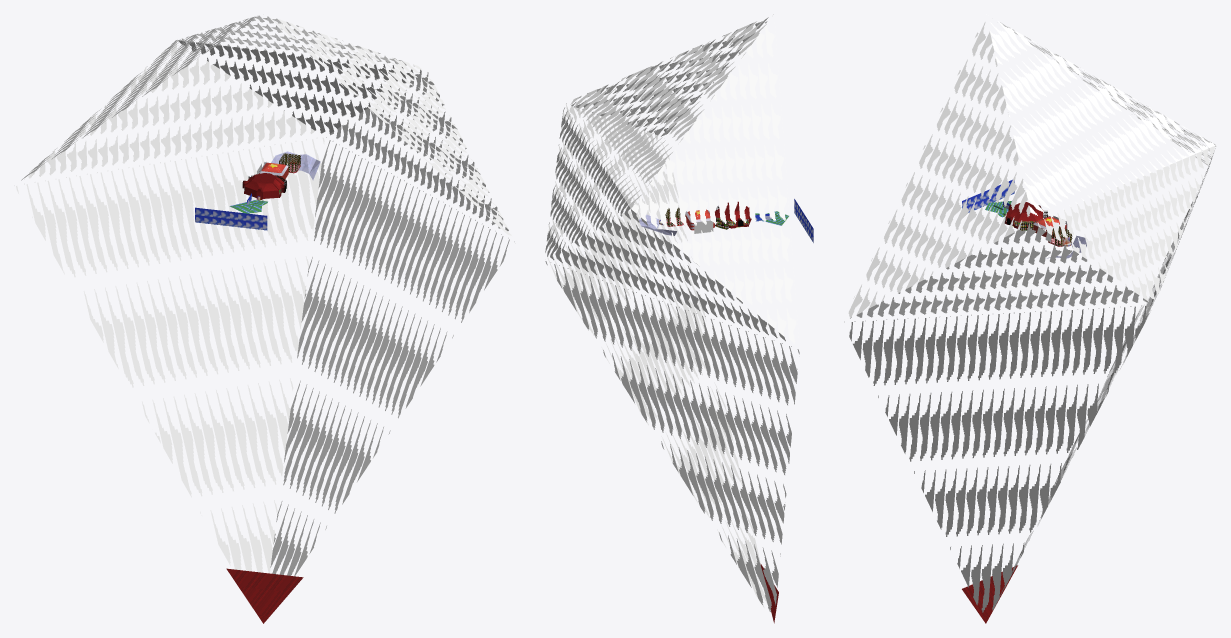
The model's file is playroom_all.glb.
3 renders of one model, left to right at view 1: azimuth 30°, elevation 25°; view 2: azimuth 150°, elevation 25°; view 3: azimuth 270°, elevation 25°, orthographic.
Visible parts, largest first — view 1: playroom_all; view 2: playroom_all; view 3: playroom_all.
Boxes of the visible parts, x1,y1,x2,y2 form: playroom_all: [16, 15, 514, 623]; playroom_all: [545, 14, 813, 623]; playroom_all: [844, 14, 1216, 623].
Size of the model in its own units: 5.77 by 10.38 by 5.77.
Materials: 21 (20 with a texture image).
